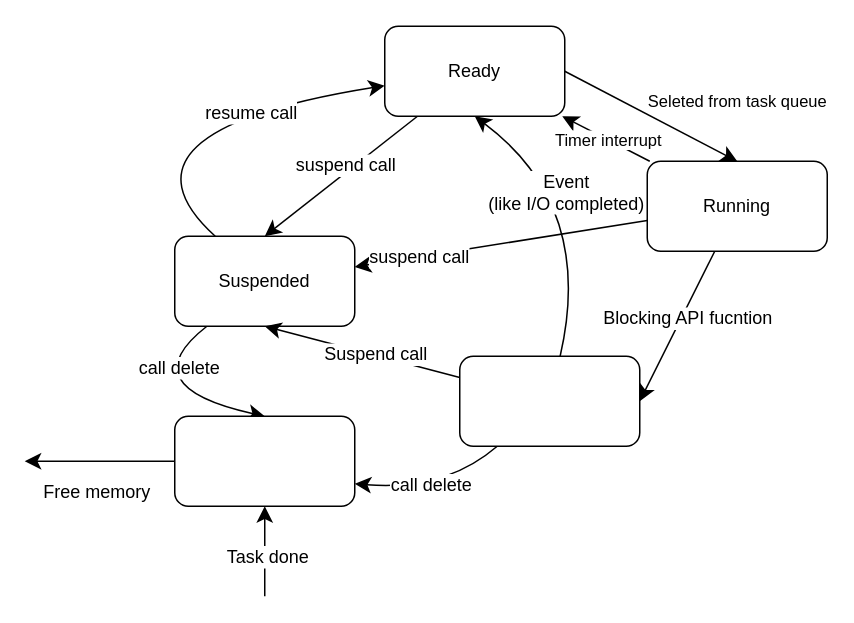
The diagram is 854 pixels wide and 623 high, and some of its shapes have lost their labels. Each missing label, with the centre of its shape:
Blocked: pixel 549 400
Delete: pixel 264 460
